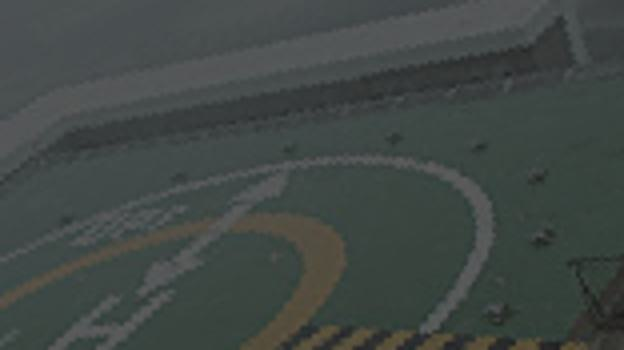Apron: (3, 204, 340, 350)
